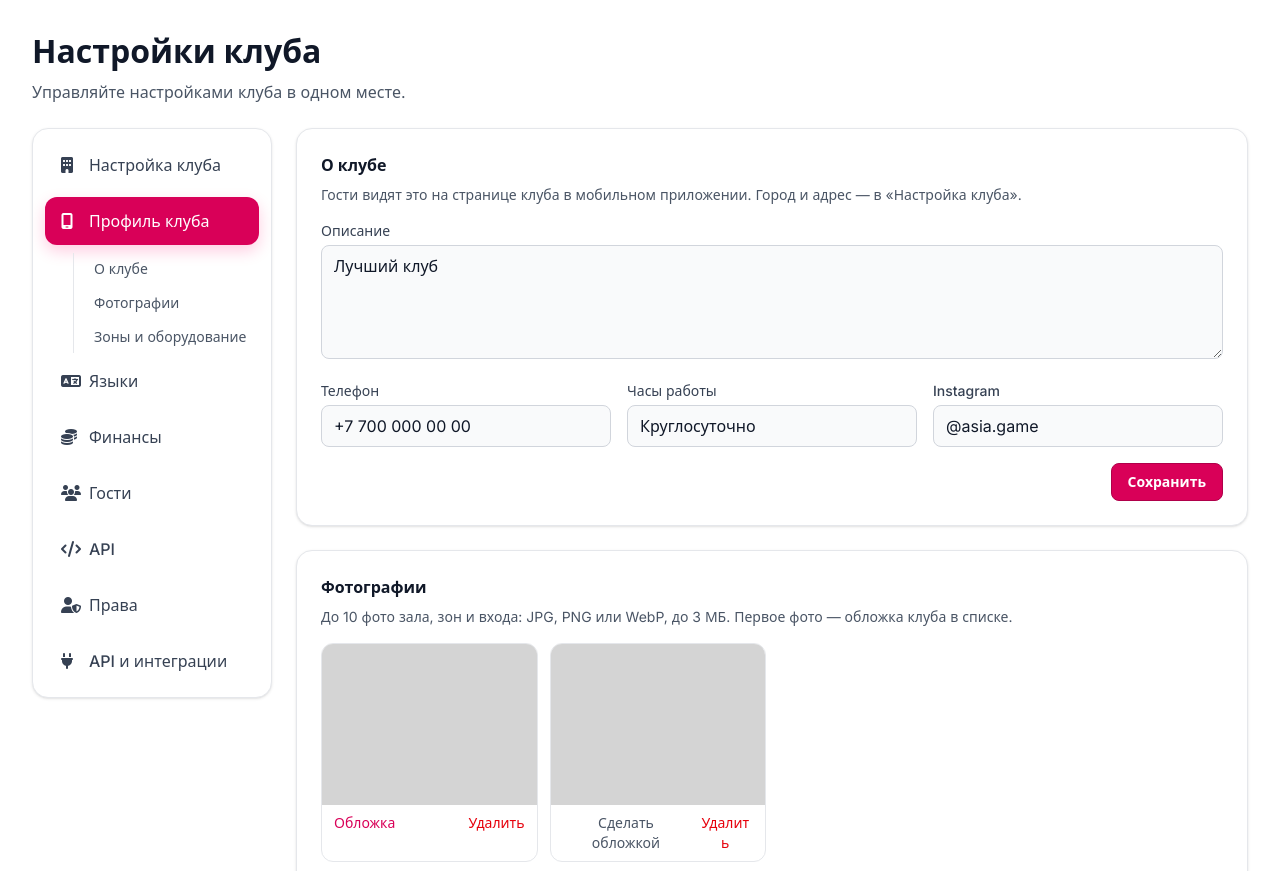
Test case: Профиль клуба › о клубе: ошибка поля показывается над формой
Click the button "Сохранить" at (1167, 482), box [1111, 463, 1223, 501]
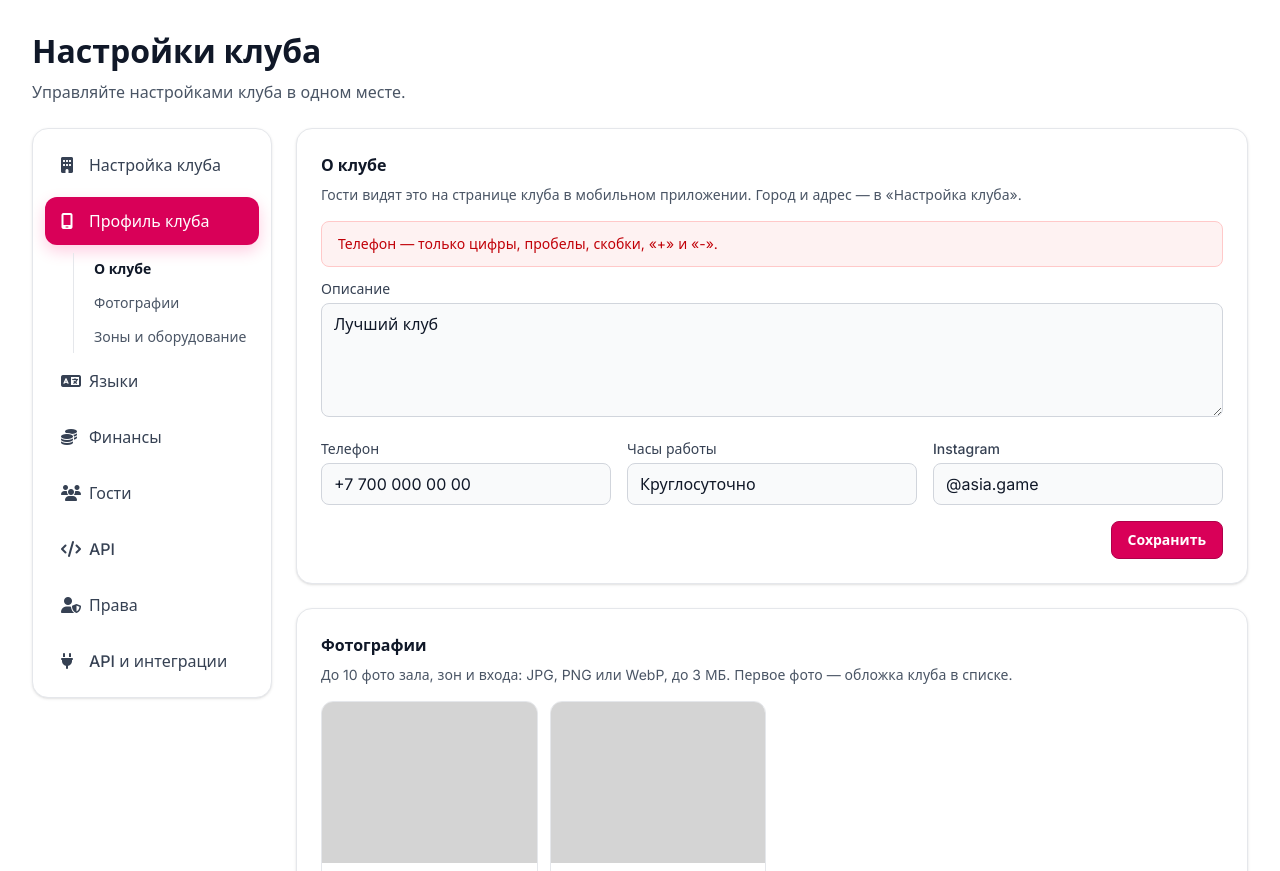
Check: the message reads "Телефон — только цифры, пробелы, скобки, «+» и «-».", box [338, 235, 718, 252]
